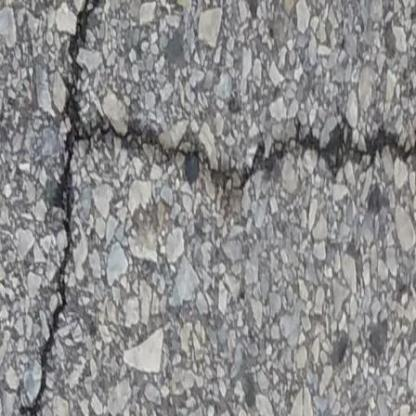Cracks: (61, 42, 416, 260), (17, 1, 125, 415)
